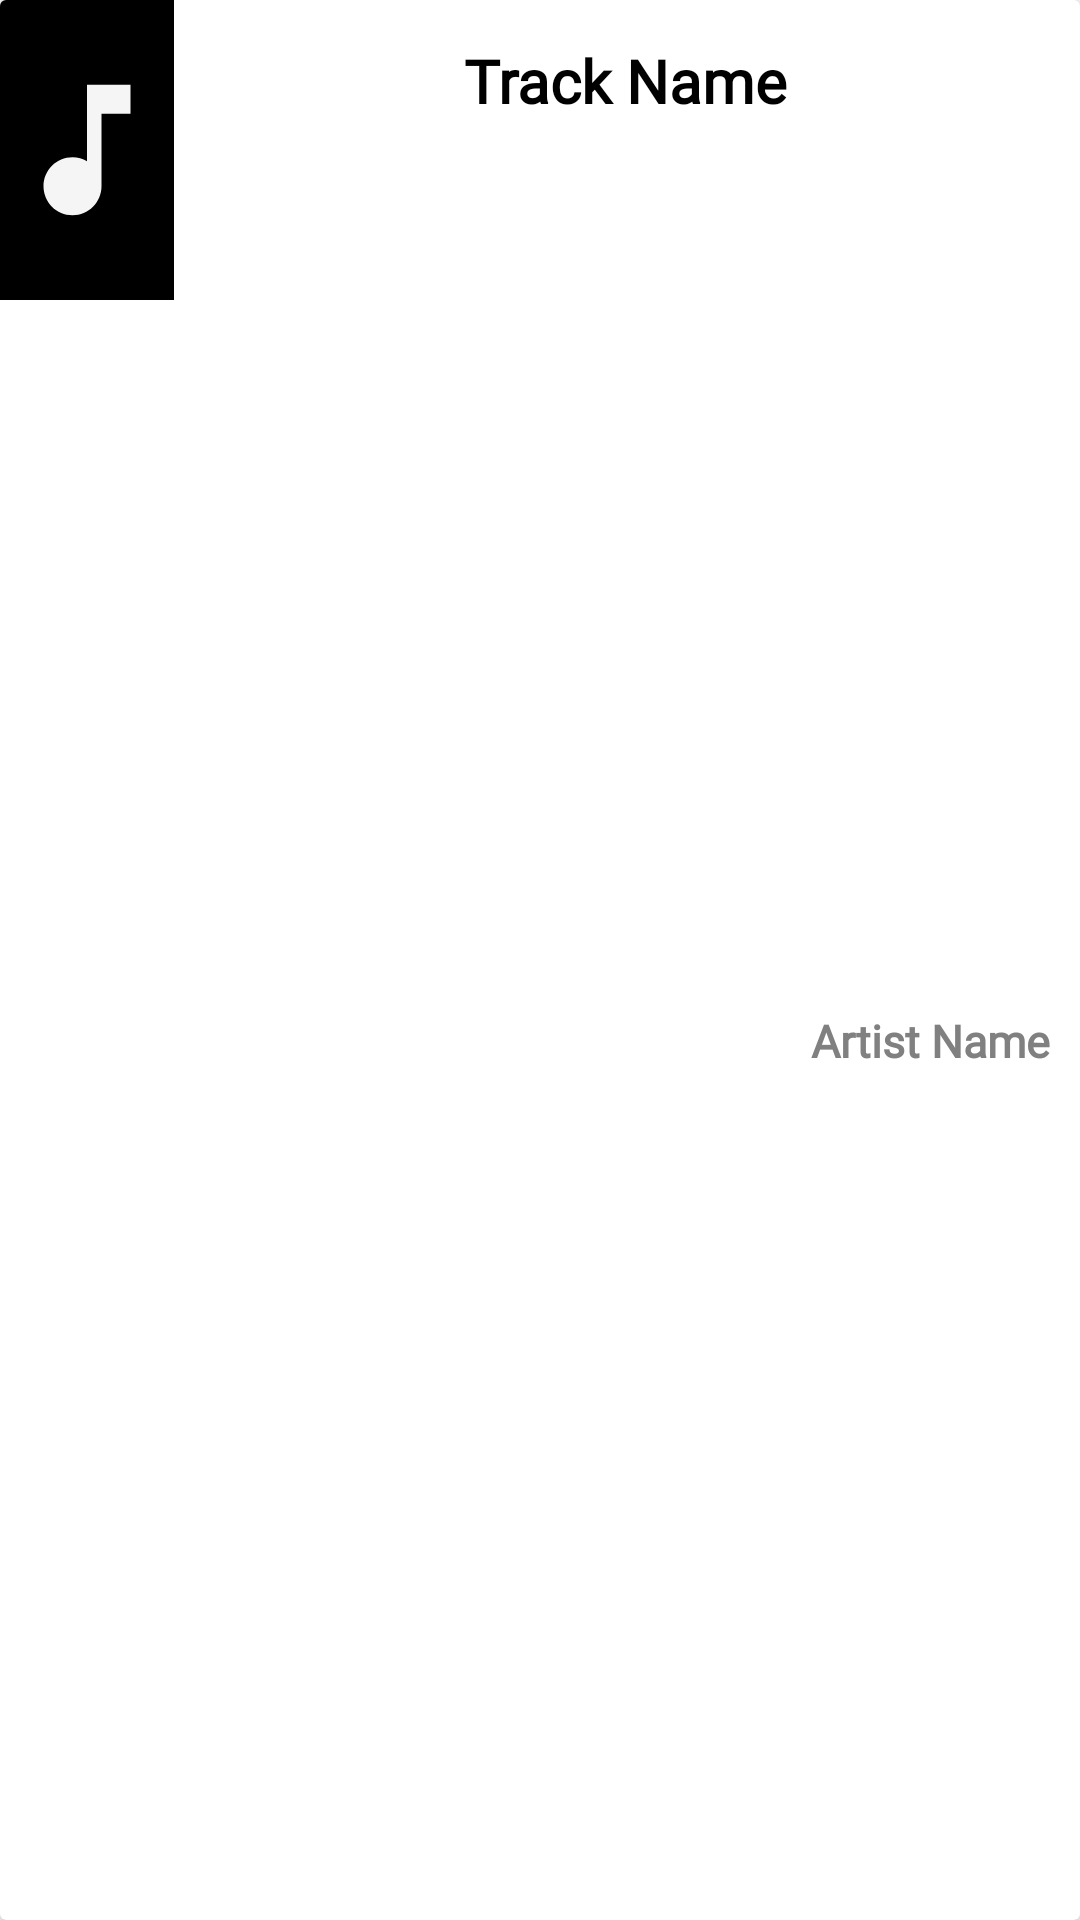

Named icons in this screenshot (1080x1920) and their centers, (x,y):
music note: (87,150)
